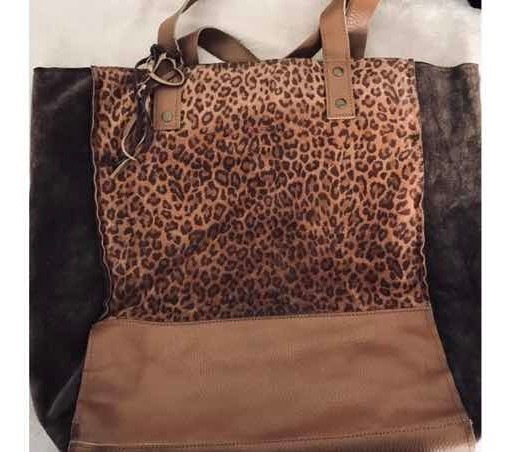cartera: (78, 1, 469, 452)
